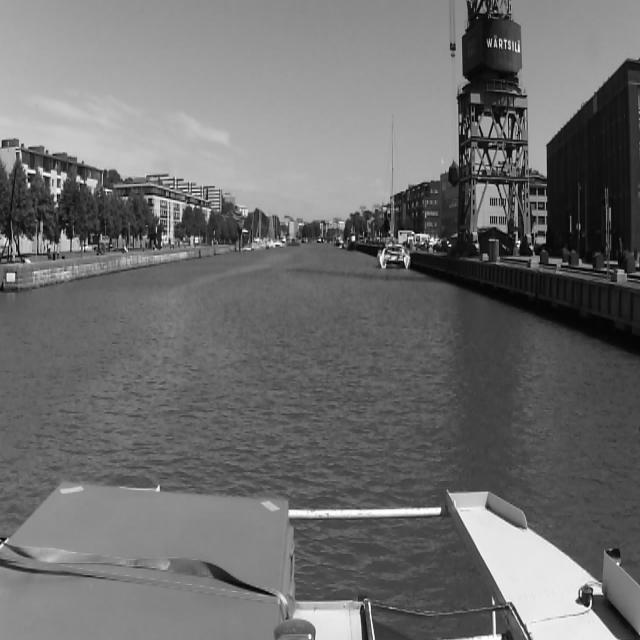ship: (379, 113, 411, 270)
